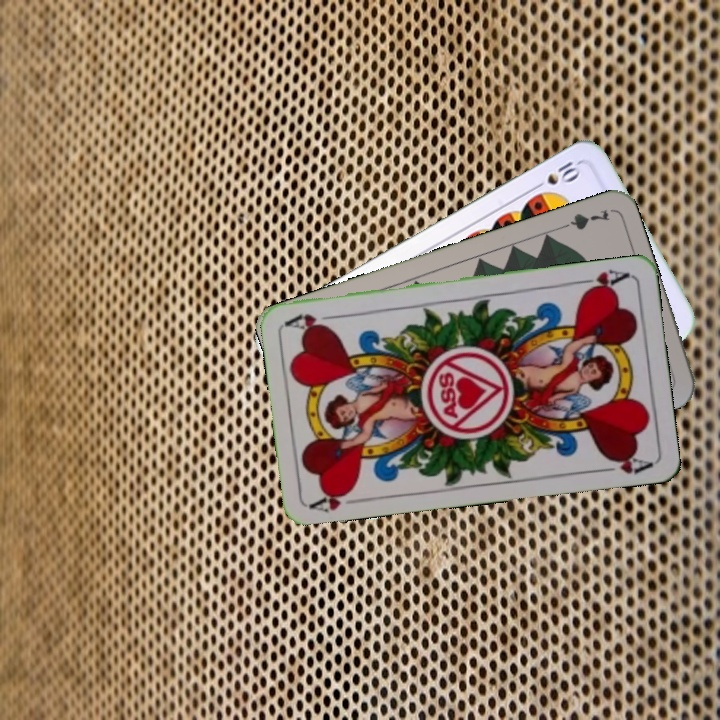G7: (554, 205, 612, 233)
HA: (572, 265, 631, 296), (307, 484, 366, 515)
S10: (528, 157, 584, 193)
